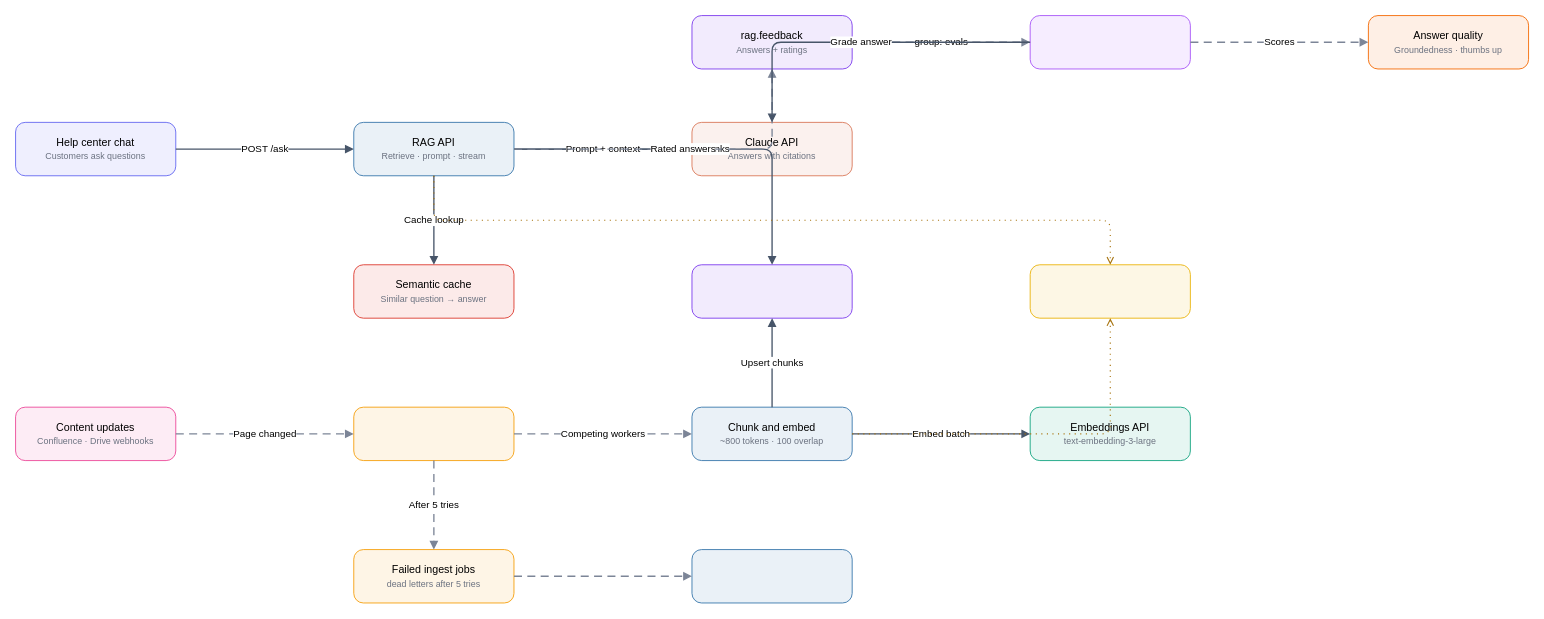
The diagram is 1544 pixels wide and 619 high, and some of its shapes have lost their labels. Each missing label, with the centre of its shape:
Eval job LLM-as-judge · group: evals: point (1109, 42)
Ingest jobs One job per changed page: point (433, 433)
Ingest triage logs page, alerts docs team: point (771, 576)
Vault LLM API keys: point (1109, 291)
Vector index pgvector · HNSW: point (771, 291)
